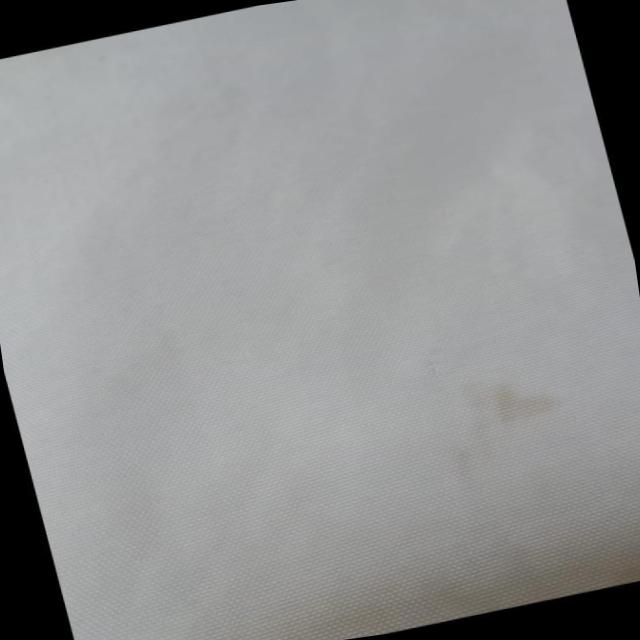stain: (454, 353, 584, 443), (586, 547, 640, 591)
